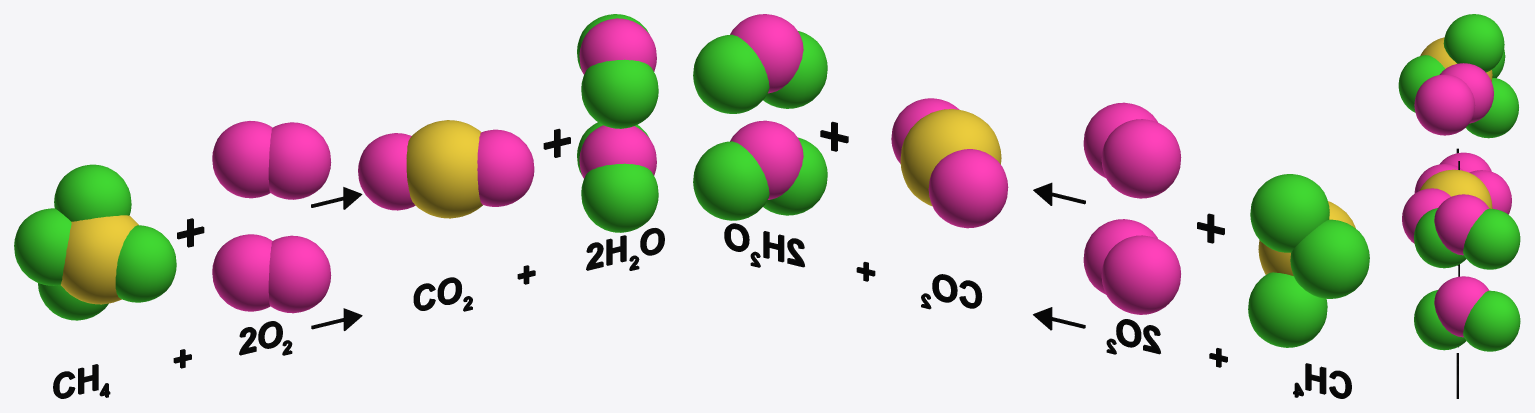
The model's file is chemical_reaction.glb.
The picture shows the model from 3 angles, left to right: view 1: azimuth 30°, elevation 25°; view 2: azimuth 150°, elevation 25°; view 3: azimuth 270°, elevation 25°; orthographic projection. The views are drawn at different scales.
Parts seen in each view (by area): view 1: Box002, Box001, Box014, Box017, Box008, Box010, TextPlus001, Box007, Box009, Box006, Box012, Box003 (+5 smaller); view 2: Box007, Box009, Box011, Box002, Box004, Box018, Box015, Box003, Box005, TextPlus001, Box016, Box013 (+6 smaller); view 3: Box008, Box015, Box018, Box003, Box016, Box013, Box005, Box014, Box017, Box007, Box002, Box006 (+7 smaller).
Boxes of the visible parts, x1,y1,x2,y2 form: Box002: (406,120,482,218); Box001: (61,215,138,304); Box014: (581,59,658,128); Box017: (581,163,658,232); Box008: (268,122,331,199); Box010: (268,235,331,313); TextPlus001: (53,228,664,398); Box007: (212,121,272,198); Box009: (212,234,272,311); Box006: (115,225,176,302); Box012: (477,129,534,206); Box003: (54,164,131,221); Box007: (1101,119,1181,198); Box009: (1101,235,1180,314); Box011: (928,149,1008,228); Box002: (900,109,1001,206); Box004: (1290,219,1369,298); Box018: (693,141,769,220); Box015: (693,34,769,113); Box003: (1250,174,1329,252); Box005: (1248,272,1327,347); TextPlus001: (724,223,1351,398); Box016: (730,120,803,199); Box013: (730,14,803,93); Box008: (1414,74,1475,135); Box015: (1463,208,1520,269); Box018: (1463,290,1520,351); Box003: (1443,14,1504,72); Box016: (1434,276,1489,337); Box013: (1434,194,1489,255); Box005: (1466,78,1518,138); Box014: (1414,208,1466,268); Box017: (1414,290,1466,350); Box007: (1439,63,1493,123); Box002: (1419,169,1492,208); Box006: (1398,55,1444,112).
Size of the model in its own units: 14.24 by 5.27 by 2.98.
